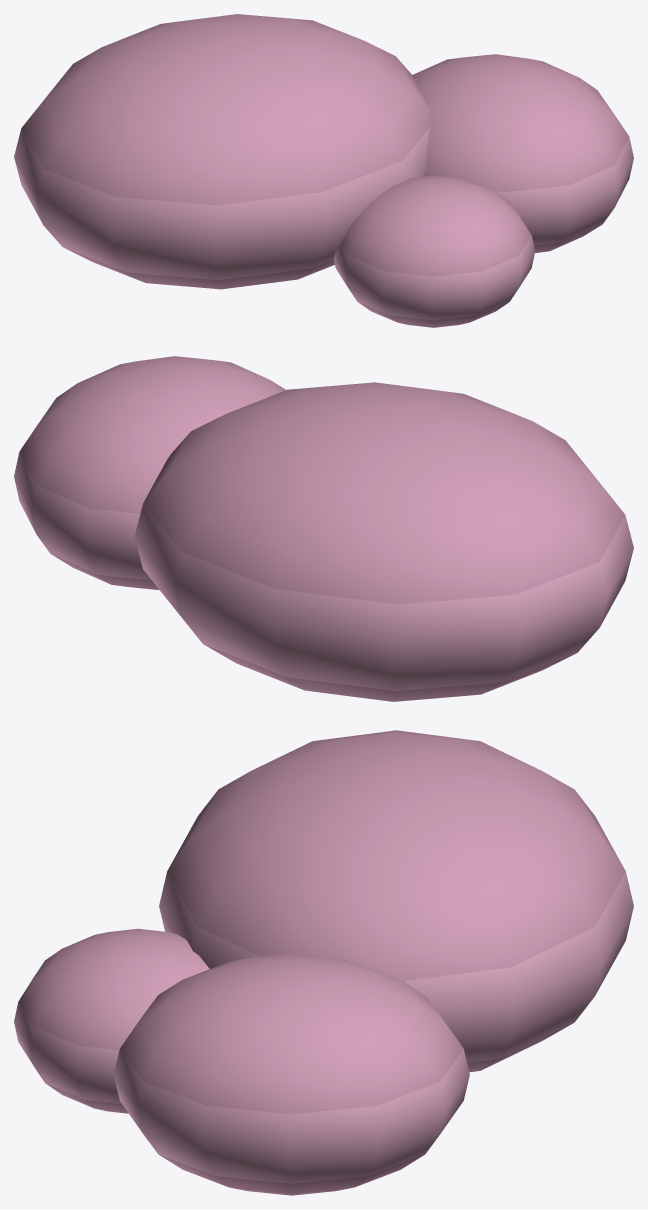
File: bush-75_col.fbx
3 renders of one model, top to bottom at view 1: azimuth 30°, elevation 25°; view 2: azimuth 150°, elevation 25°; view 3: azimuth 270°, elevation 25°, orthographic. The views are drawn at different scales.
Parts seen in each view (by area): view 1: bush-75.col; view 2: bush-75.col; view 3: bush-75.col.
Boxes of the visible parts, x1=… form: bush-75.col: x1=14, y1=14, x2=633, y2=327; bush-75.col: x1=14, y1=356, x2=633, y2=701; bush-75.col: x1=14, y1=730, x2=633, y2=1195.
Bounding box in the file's own units: 0.4055 × 0.1595 × 0.3343.
Materials: 1 (1 with a texture image).
